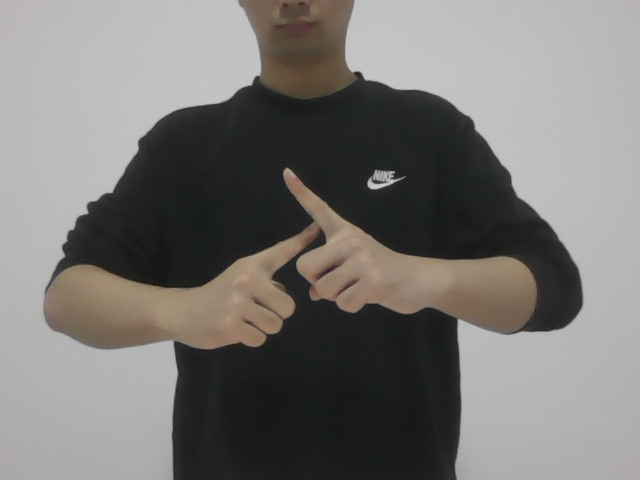peason: (221, 154, 402, 350)
